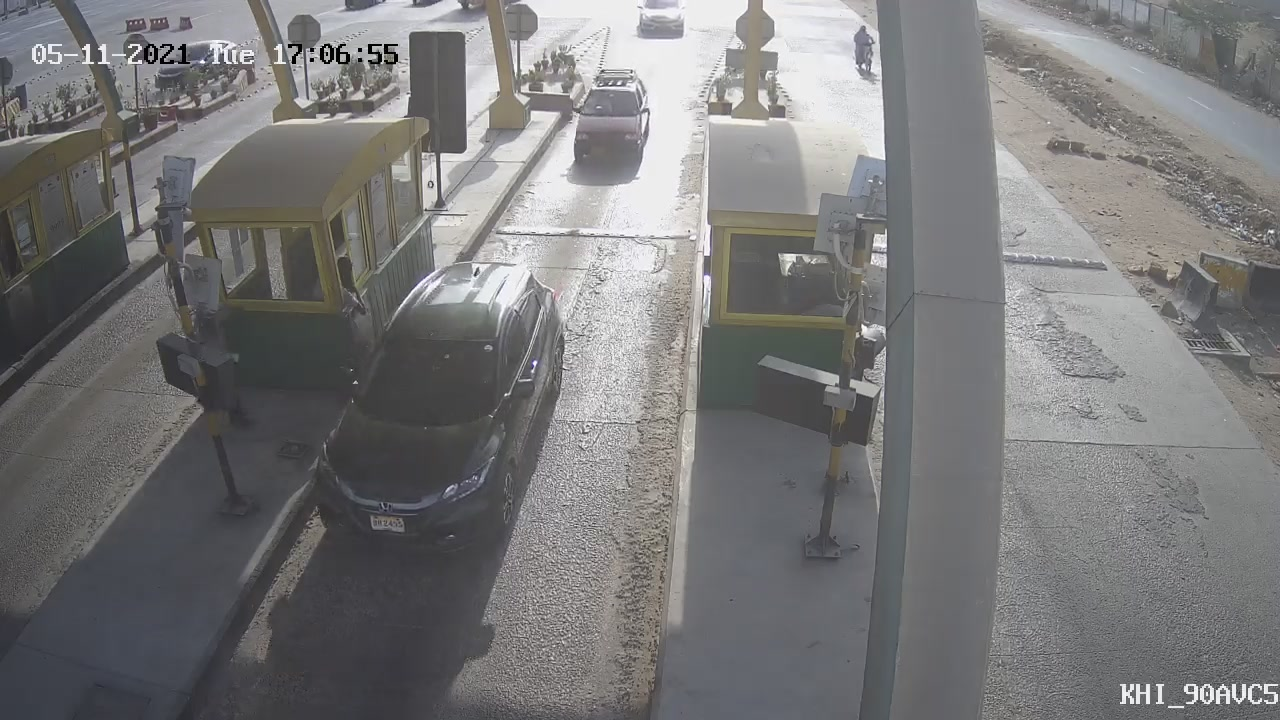F1: (287, 240, 585, 577), (555, 47, 669, 191)
